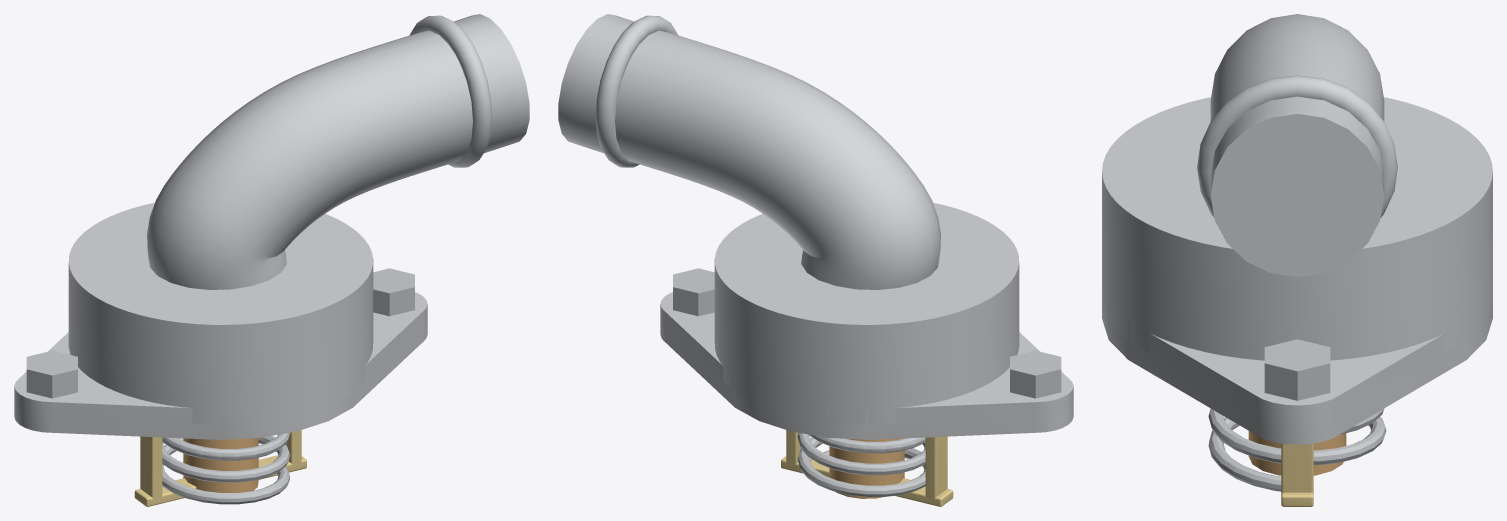
File: thermostat_housing.glb
3 views of the same model, side by side, from view 1: azimuth 30°, elevation 25°; view 2: azimuth 150°, elevation 25°; view 3: azimuth 270°, elevation 25° (orthographic). The views are drawn at different scales.
Visible parts, largest first — view 1: housing, thermostat, bolts; view 2: housing, thermostat, bolts; view 3: housing, thermostat, bolts.
Boxes of the visible parts, bbox=[...] form: housing: bbox=[14, 14, 529, 439]; thermostat: bbox=[134, 430, 306, 506]; bolts: bbox=[26, 268, 414, 398]; housing: bbox=[558, 14, 1073, 439]; thermostat: bbox=[781, 430, 953, 506]; bolts: bbox=[673, 268, 1061, 398]; housing: bbox=[1102, 14, 1492, 444]; thermostat: bbox=[1208, 408, 1386, 506]; bolts: bbox=[1264, 339, 1330, 400].
Bounding box in the file's own units: 131 × 106 × 72.
